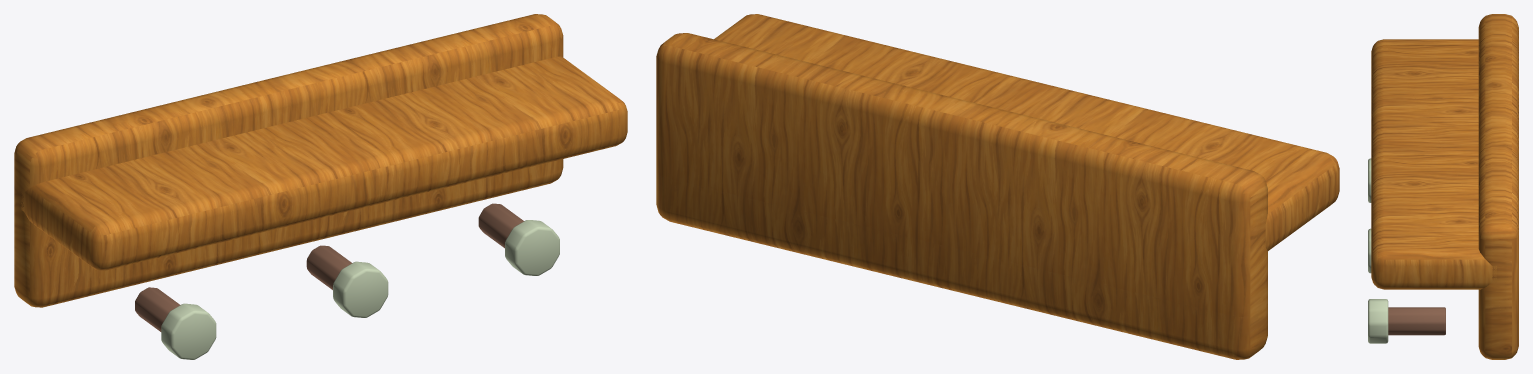
File: wall-shelf.glb
The picture shows the model from 3 angles, left to right: view 1: azimuth 30°, elevation 25°; view 2: azimuth 150°, elevation 25°; view 3: azimuth 270°, elevation 25°; orthographic projection. The views are drawn at different scales.
Visible parts, largest first — view 1: wall-shelf; view 2: wall-shelf; view 3: wall-shelf.
Part boxes in pixels (left/top/right/bottom): wall-shelf: left=14, top=14, right=627, bottom=359; wall-shelf: left=656, top=14, right=1339, bottom=359; wall-shelf: left=1368, top=14, right=1518, bottom=359.
Bounding box in the file's own units: 0.9 × 0.2912 × 0.2613.
Materials: 3 (1 with a texture image).
